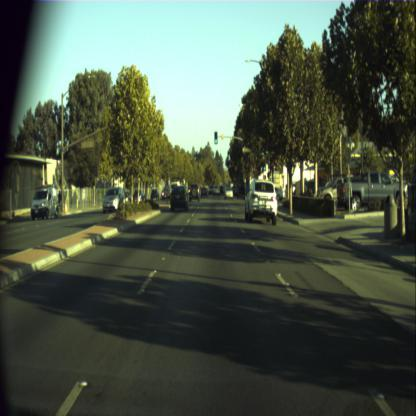Green: (214, 131, 217, 144), (262, 159, 264, 170)
